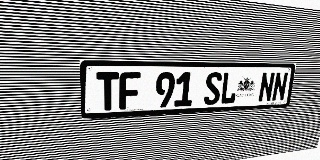1: (174, 72, 194, 107)
9: (155, 72, 175, 108)
F: (119, 72, 141, 110)
L: (220, 72, 238, 104)
N: (271, 72, 289, 102), (258, 72, 275, 102)
S: (203, 72, 222, 105)
T: (96, 72, 119, 111)
